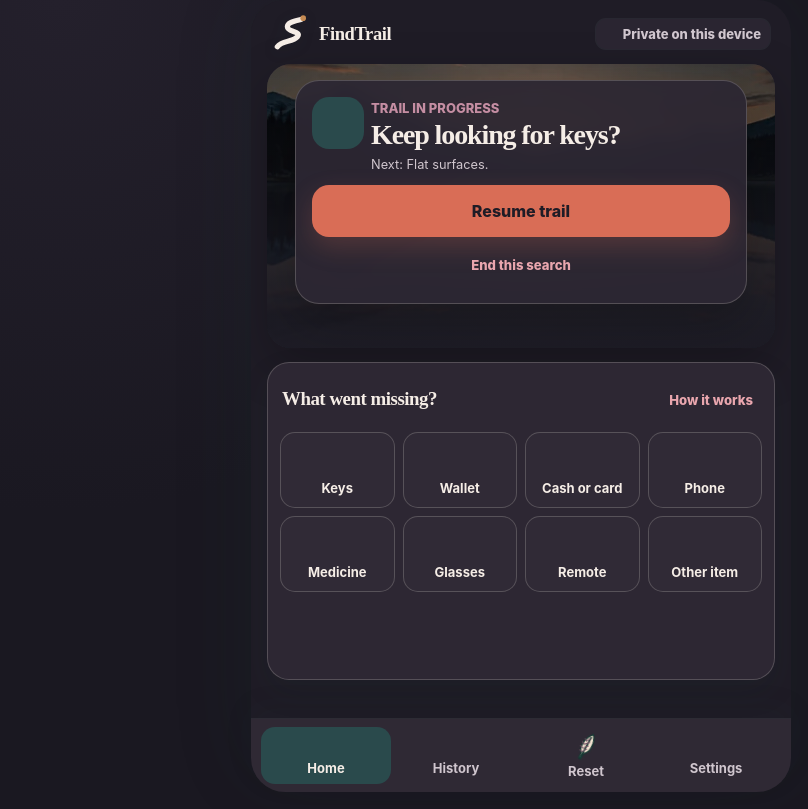
Test case: FindTrail app › resumes an unfinished third place before offering the wider pass
What coordinates should you click on to do the following:
click the button "Resume trail"
I would click on:
 (521, 211)
Its box is x1=312 y1=185 x2=730 y2=237.
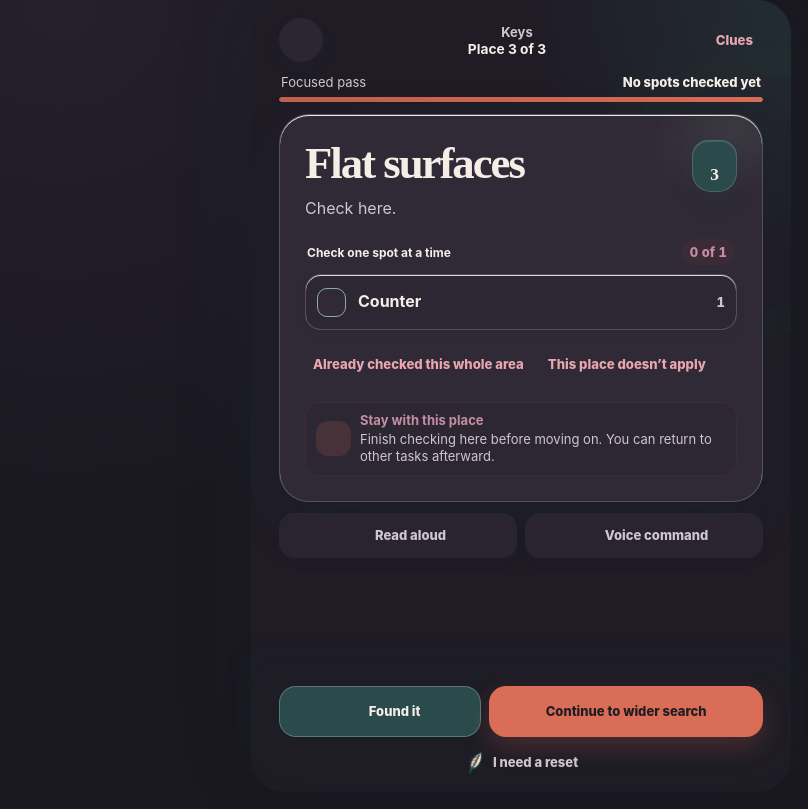
Expected: the heading "Flat surfaces" is shown, x1=305 y1=138 x2=524 y2=188
What coordinates should you click on to do the following:
click the button "Continue to wider search"
I would click on:
 (626, 712)
Its box is x1=489 y1=686 x2=763 y2=737.
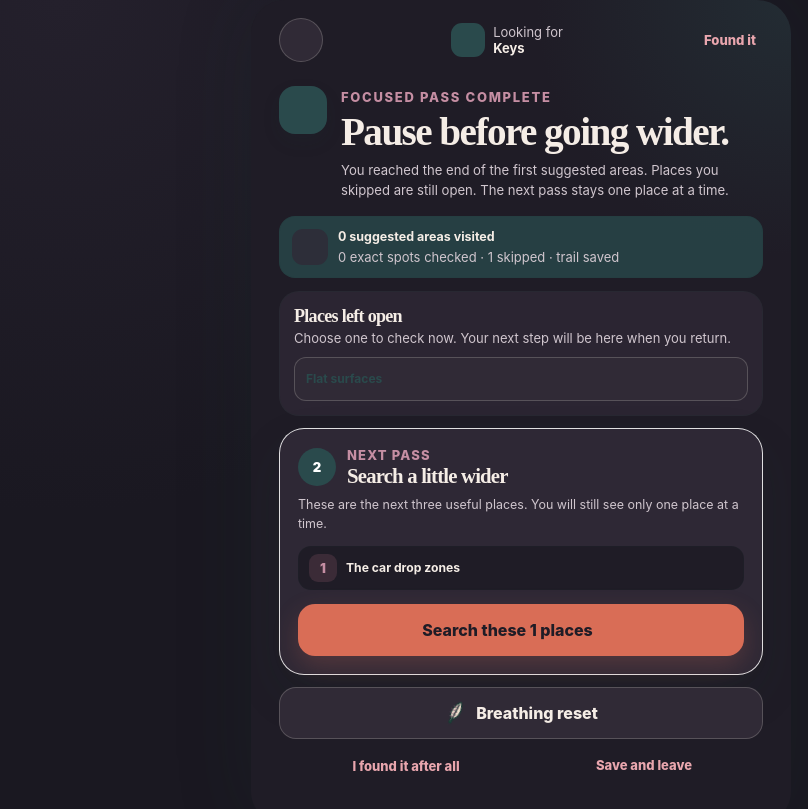
Expected: the heading "Pause before going wider." is shown, x1=341 y1=111 x2=763 y2=152
